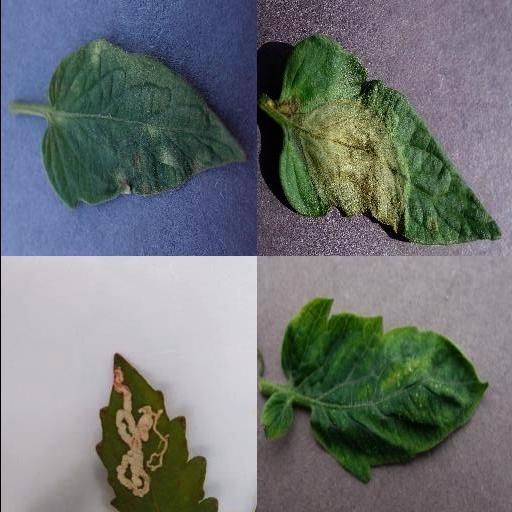Late Blight: (274, 34, 502, 246)
Leaf Miner: (94, 353, 218, 512)
Leaf Mold: (38, 37, 250, 209)
Yellow Leaf Curl Virus: (281, 300, 487, 486)
